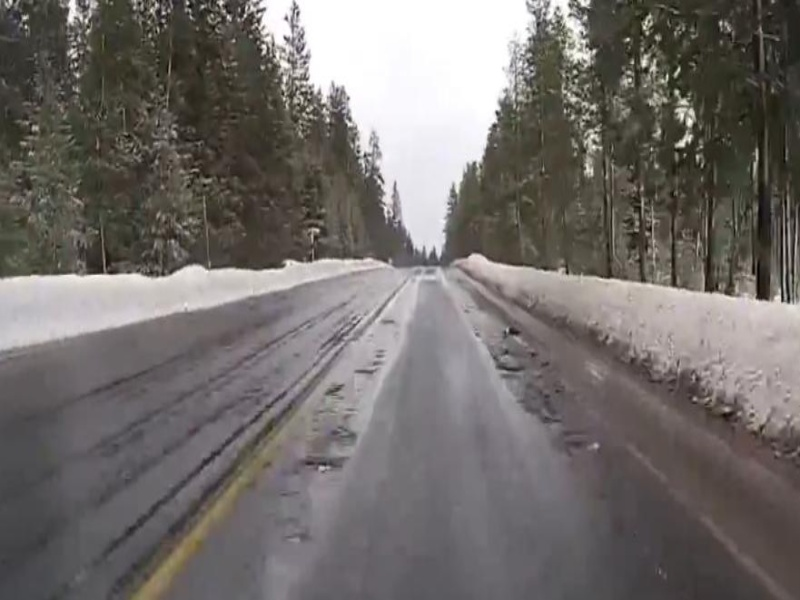pothole: (298, 457, 346, 473), (498, 360, 525, 377)
